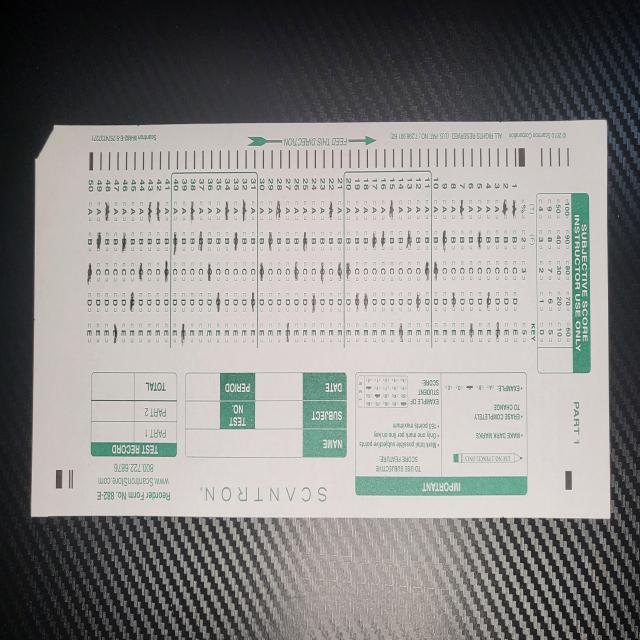scantron: (31, 117, 611, 519)
